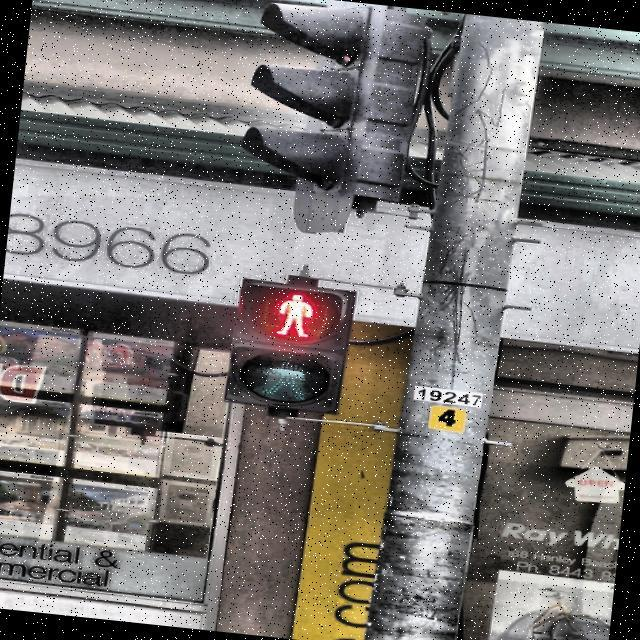red_light: (275, 291, 318, 339)
